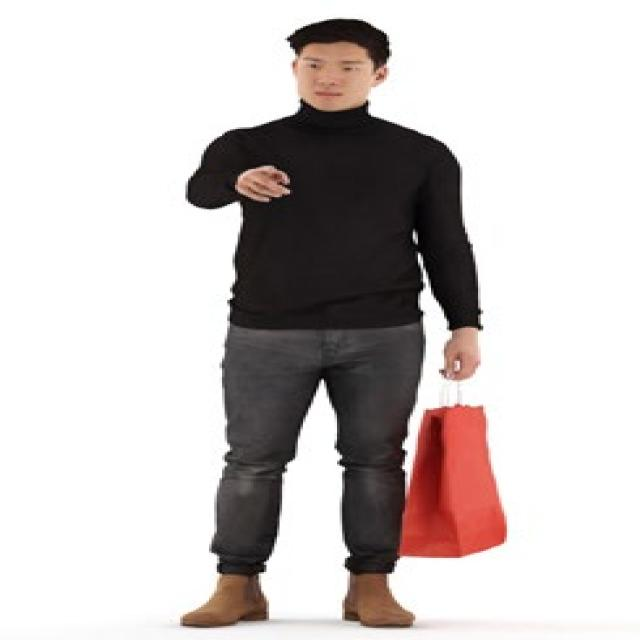standing: (166, 17, 484, 632)
